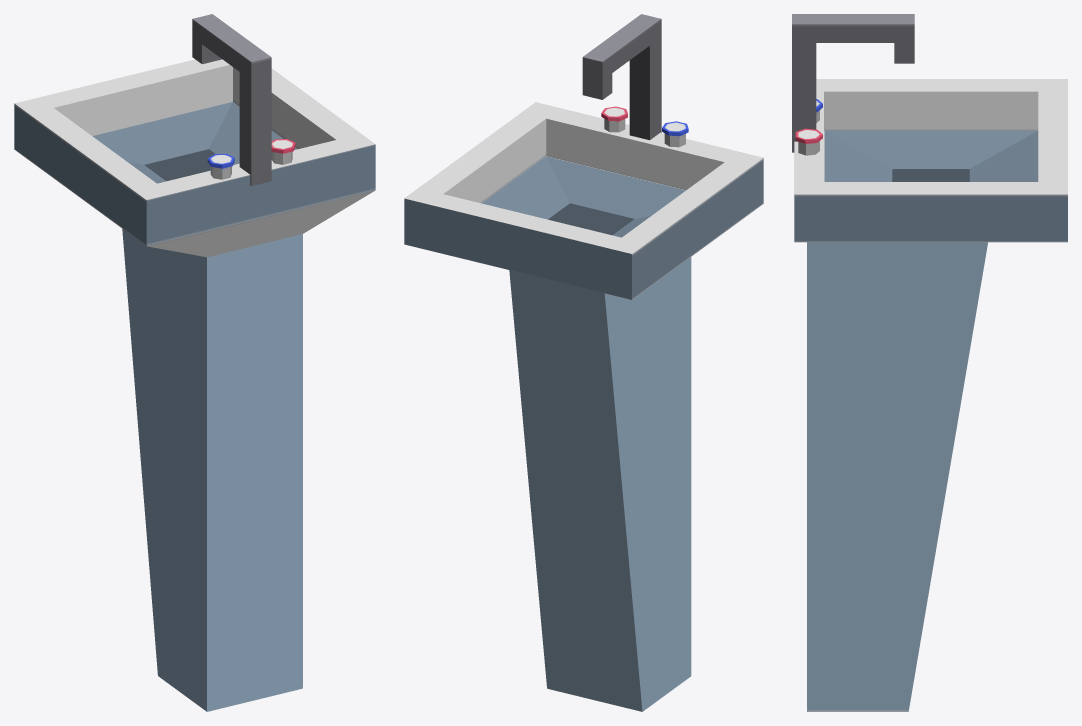
The model's file is Sink.glb.
3 renders of one model, left to right at view 1: azimuth 30°, elevation 25°; view 2: azimuth 150°, elevation 25°; view 3: azimuth 270°, elevation 25°, orthographic. The views are drawn at different scales.
Visible parts, largest first — view 1: Sink; view 2: Sink; view 3: Sink.
Part boxes in pixels (x1,y1,x2,y2): Sink: (14, 14, 375, 711); Sink: (404, 14, 763, 711); Sink: (792, 14, 1067, 711).
Size of the model in its own units: 0.4583 by 1.24 by 0.462.
1 material, 1 textured.
